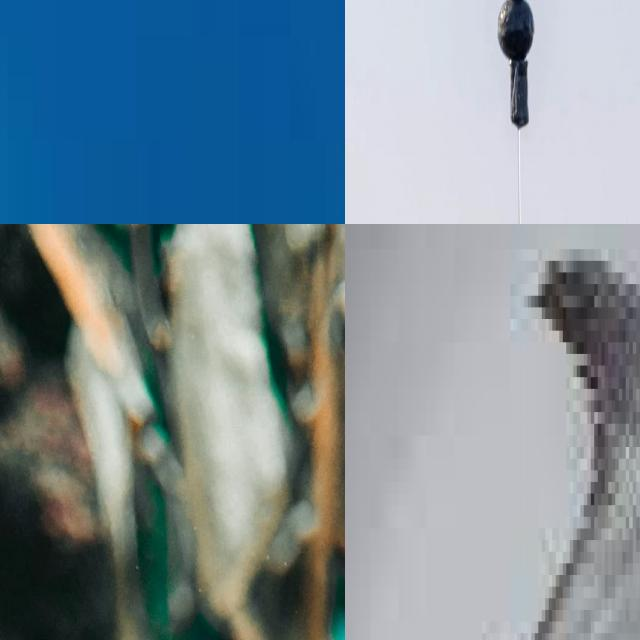fish: (345, 224, 640, 640), (0, 0, 345, 224), (345, 112, 640, 224)
